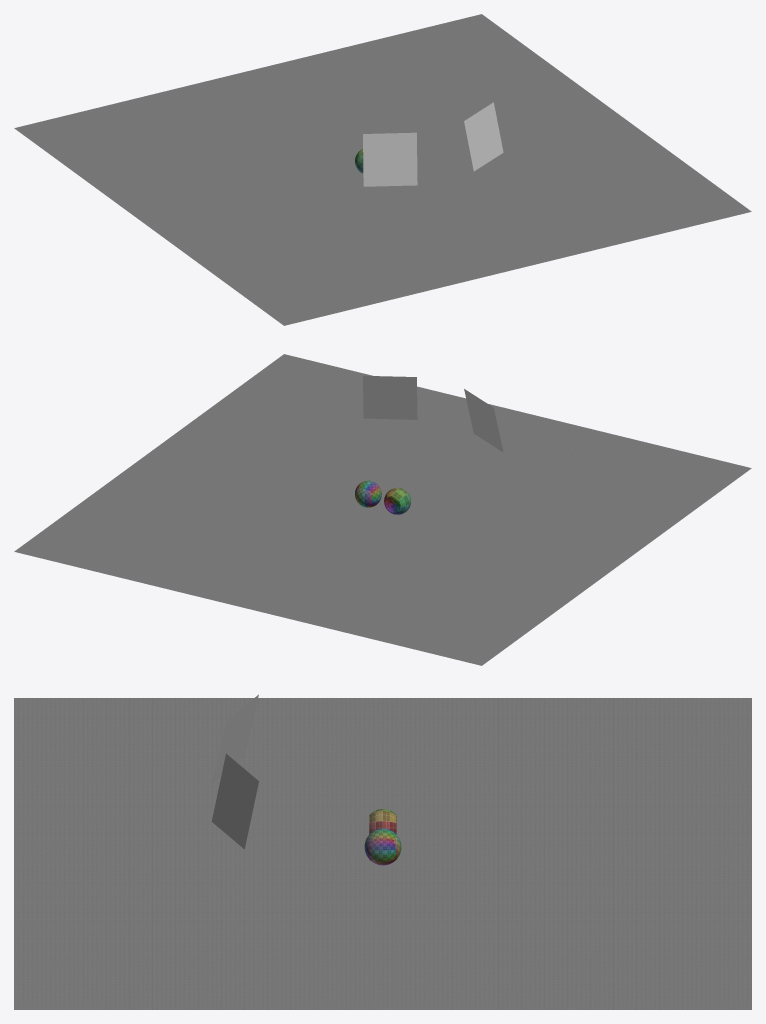
Rendered from simple_arealight.obj.
3 renders of one model, top to bottom at view 1: azimuth 30°, elevation 25°; view 2: azimuth 150°, elevation 25°; view 3: azimuth 270°, elevation 25°, orthographic. The views are drawn at different scales.
Visible parts, largest first — view 1: floor, arealight; view 2: floor, arealight, obj01, obj02; view 3: floor, arealight, obj02, obj01.
Boxes of the visible parts, x1,y1,x2,y2 form: floor: (14,14,751,325); arealight: (363,102,503,186); floor: (14,354,751,665); arealight: (363,375,503,452); obj01: (384,487,410,514); obj02: (355,480,381,507); floor: (14,698,751,1009); arealight: (211,694,258,849); obj02: (364,828,401,865); obj01: (369,809,396,833).
Size of the model in its own units: 40 by 6.95 by 40.
Materials: 4 (3 with a texture image).
